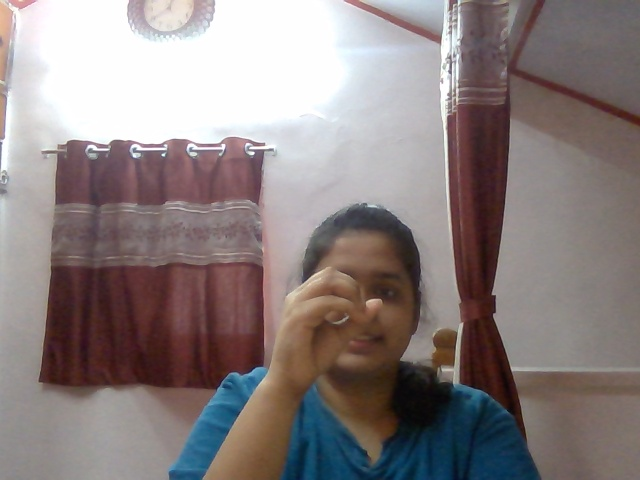o: (269, 259, 389, 386)
